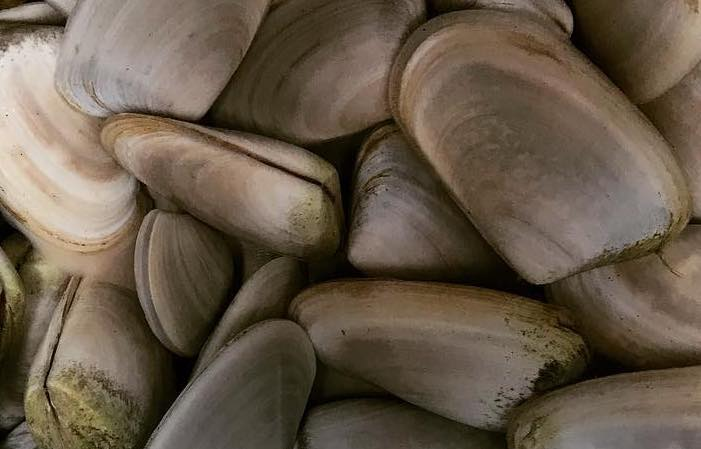tuatua: (385, 4, 694, 289), (287, 277, 592, 430), (98, 108, 347, 259), (1, 23, 136, 249), (45, 1, 268, 123), (222, 1, 413, 142), (23, 274, 155, 446), (151, 318, 318, 449), (349, 120, 484, 274), (503, 363, 700, 449), (131, 205, 231, 357)
